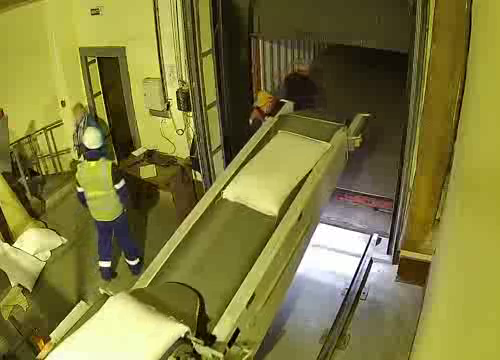bag: (218, 128, 340, 220), (44, 292, 194, 359)
